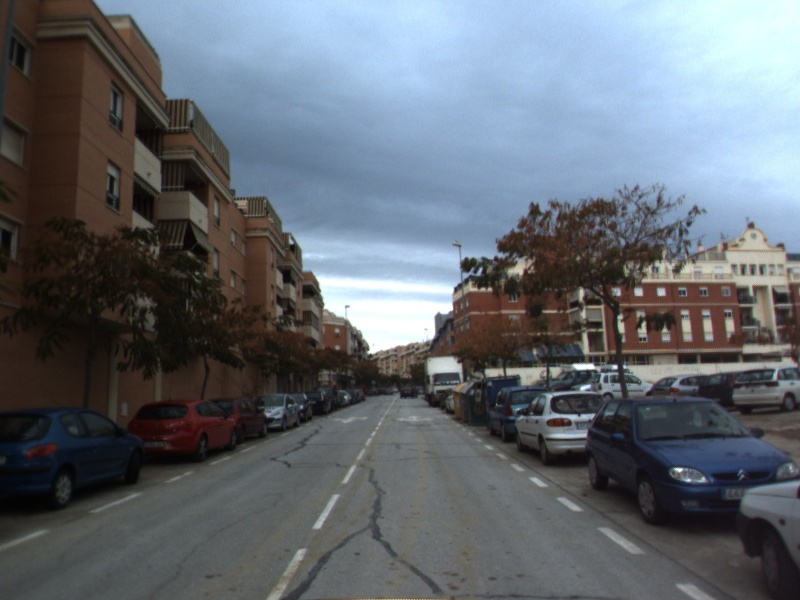STRAIGHT_LEFT_RIGHT: (394, 413, 437, 424)
